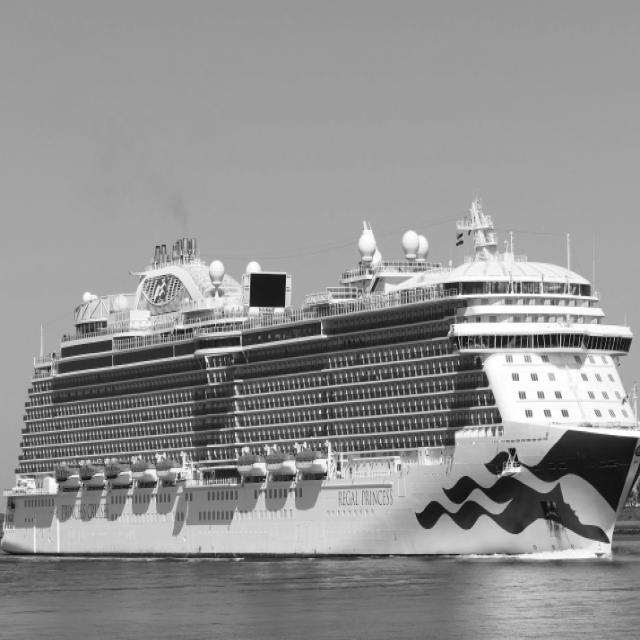cruises: (1, 197, 640, 568)
